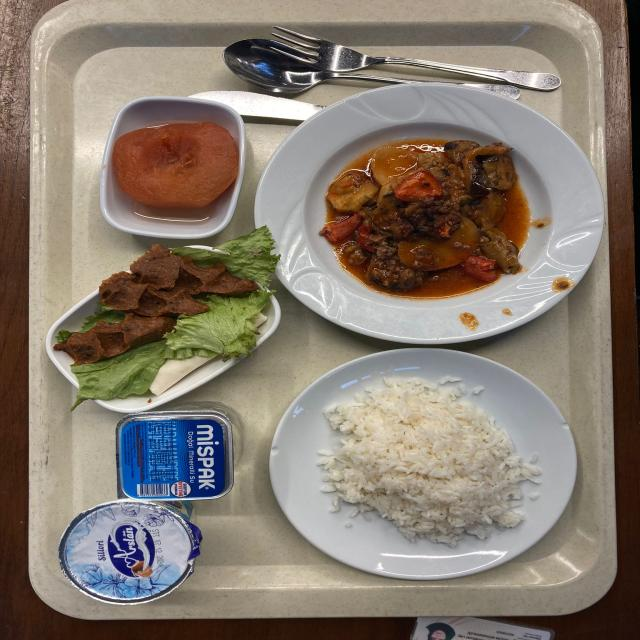ana_yemek: (269, 83, 595, 340), (277, 348, 571, 581)
yan_yemek: (42, 258, 280, 396), (97, 94, 244, 237)
